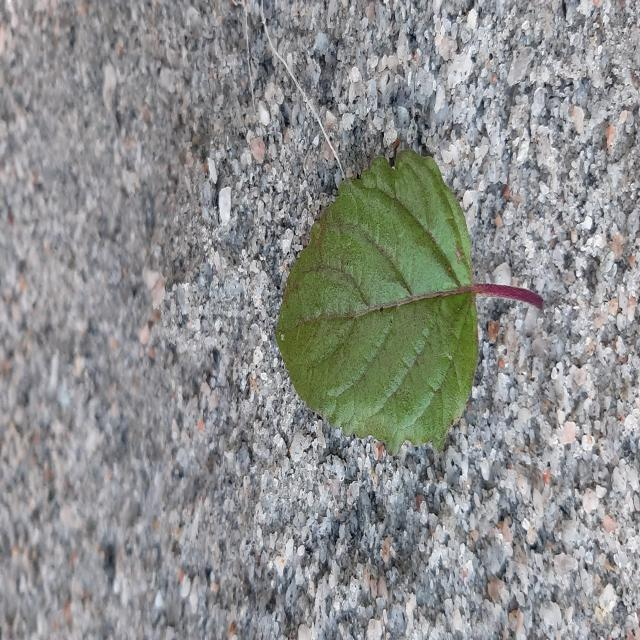defectedtulsi: (278, 182, 364, 431)
tulsi: (276, 152, 541, 453)
